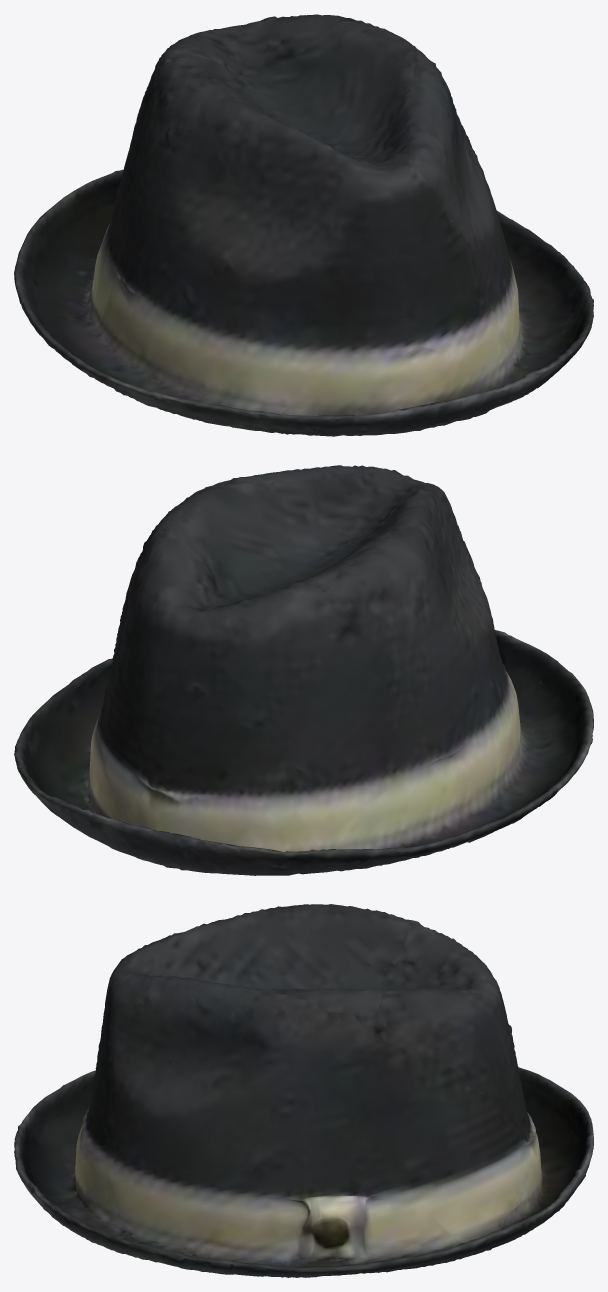
File: Retail_Leadership_Summit_tQFCizMt6g0-high.glb
3 views of the same model, one above another, from view 1: azimuth 30°, elevation 25°; view 2: azimuth 150°, elevation 25°; view 3: azimuth 270°, elevation 25° (orthographic). The views are drawn at different scales.
Parts seen in each view (by area): view 1: Retail_Leadership_Summit_tQFCizMt6g0; view 2: Retail_Leadership_Summit_tQFCizMt6g0; view 3: Retail_Leadership_Summit_tQFCizMt6g0.
Boxes of the visible parts, x1,y1,x2,y2 form: Retail_Leadership_Summit_tQFCizMt6g0: [14, 14, 593, 436]; Retail_Leadership_Summit_tQFCizMt6g0: [14, 465, 593, 875]; Retail_Leadership_Summit_tQFCizMt6g0: [14, 904, 593, 1277].
Size of the model in its own units: 0.2472 by 0.1253 by 0.2735.
Materials: 1 (1 with a texture image).
